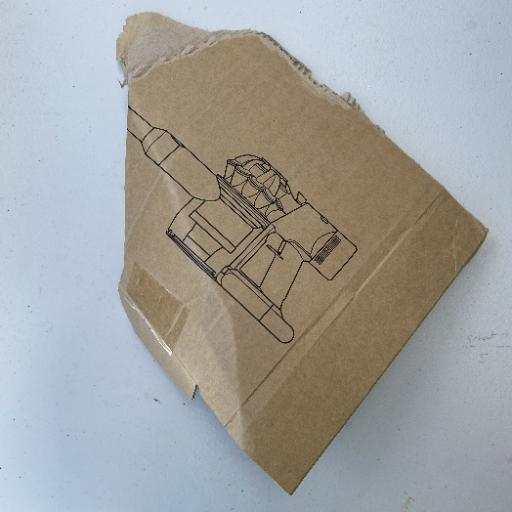Cardboard: (114, 11, 490, 496)
